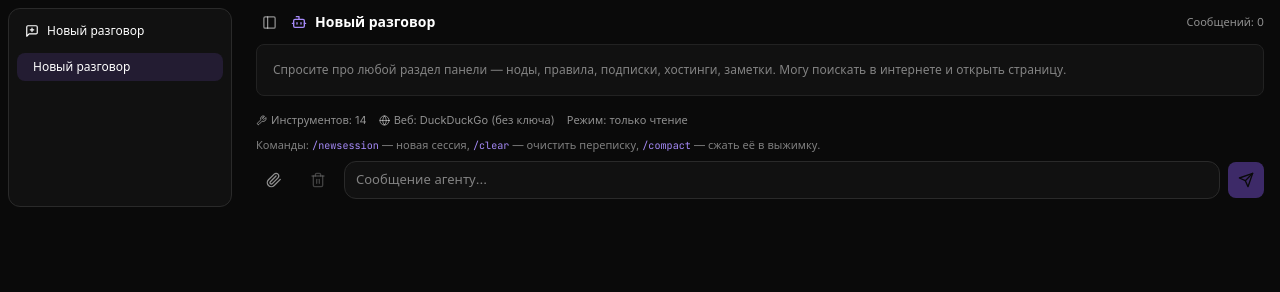
Test: AiChat: markdown и безопасный HTML › [ссылка](url) — это <a href>, а javascript: href теряет
The width and height of the screenshot is (1280, 292).
Type "вопрос" into the field with placeholder "Сообщение агенту...".
click(782, 180); type("вопрос")  # box [344,161,1220,198]
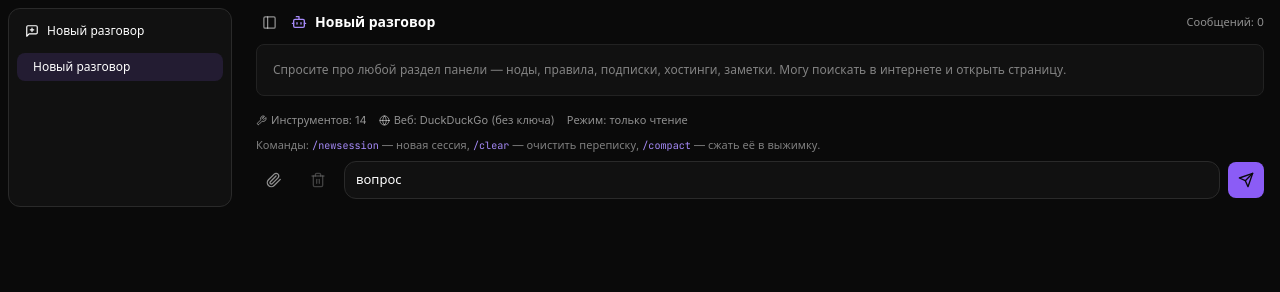
Press Enter in the field with placeholder "Сообщение агенту...", box [344,161,1220,198]
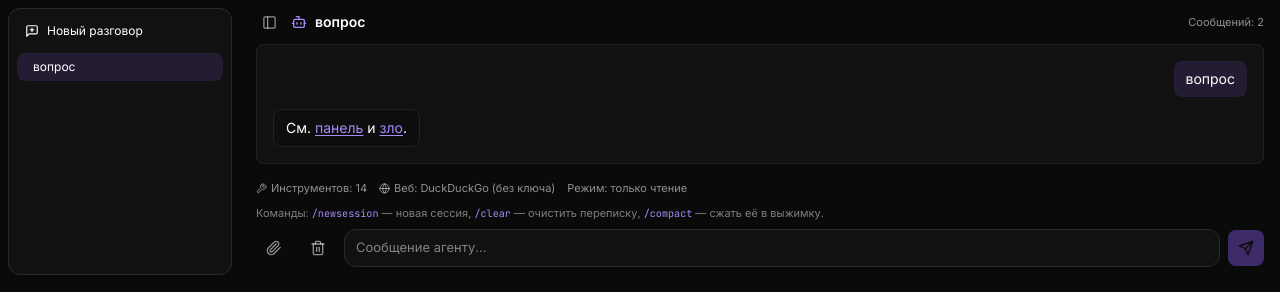
Now the button titled "Очистить" is enabled, box [300,230,336,266]
